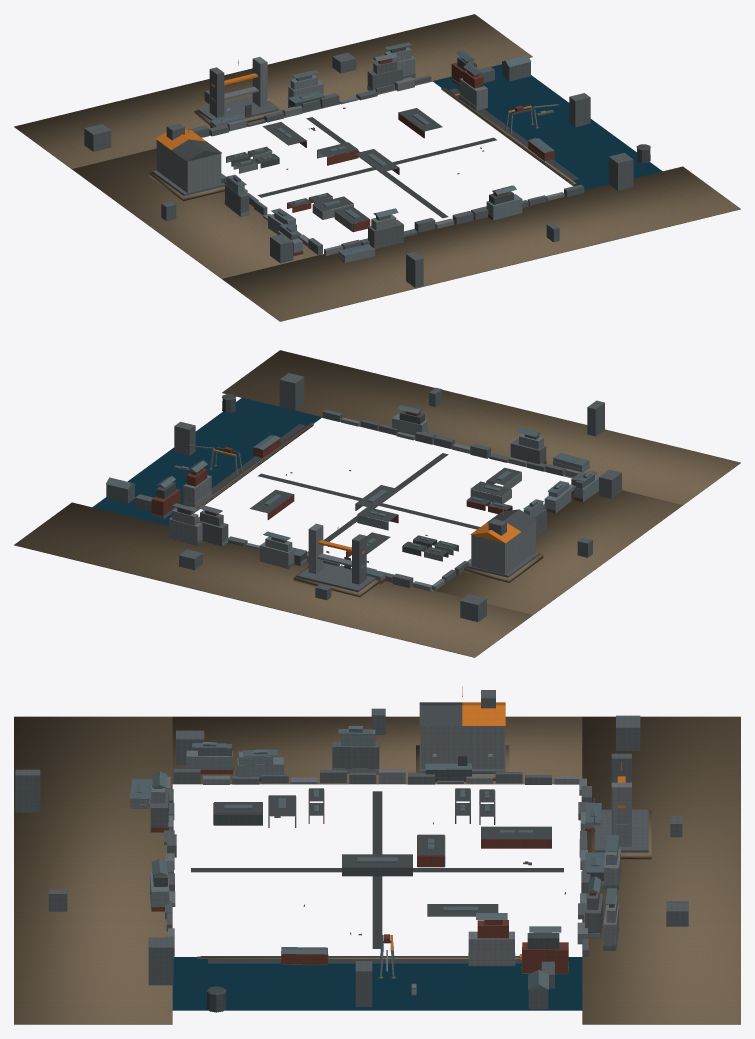
File: souko-lod2.glb
3 views of the same model, one above another, from view 1: azimuth 30°, elevation 25°; view 2: azimuth 150°, elevation 25°; view 3: azimuth 270°, elevation 25° (orthographic). The views are drawn at different scales.
Visible parts, largest first — view 1: HB_souko_LOD2_terrain, HB_souko_LOD2_wall_alt, HB_souko_LOD2_water, HB_souko_LOD2_wall, HB_souko_LOD2_trim, HB_souko_LOD2_roof, HB_souko_LOD2_road, HB_souko_LOD2_LANDMARK_1_wall, HB_souko_LOD2_wall_cool, HB_souko_LOD2_wall_warm, HB_souko_LOD2_LANDMARK_0_wall_alt, HB_souko_LOD2_wall_weathered (+3 smaller); view 2: HB_souko_LOD2_terrain, HB_souko_LOD2_wall_alt, HB_souko_LOD2_water, HB_souko_LOD2_wall, HB_souko_LOD2_trim, HB_souko_LOD2_roof, HB_souko_LOD2_wall_cool, HB_souko_LOD2_LANDMARK_1_wall, HB_souko_LOD2_road, HB_souko_LOD2_wall_warm, HB_souko_LOD2_LANDMARK_0_wall_alt, HB_souko_LOD2_wall_weathered (+4 smaller); view 3: HB_souko_LOD2_terrain, HB_souko_LOD2_water, HB_souko_LOD2_wall_alt, HB_souko_LOD2_wall, HB_souko_LOD2_trim, HB_souko_LOD2_roof, HB_souko_LOD2_road, HB_souko_LOD2_wall_warm, HB_souko_LOD2_wall_cool, HB_souko_LOD2_LANDMARK_1_wall, HB_souko_LOD2_wall_weathered, HB_souko_LOD2_LANDMARK_0_wall_alt (+4 smaller).
Boxes of the visible parts, bbox=[...] form: HB_souko_LOD2_terrain: bbox=[14, 14, 740, 321]; HB_souko_LOD2_wall_alt: bbox=[84, 52, 633, 287]; HB_souko_LOD2_water: bbox=[432, 64, 662, 190]; HB_souko_LOD2_wall: bbox=[210, 47, 564, 262]; HB_souko_LOD2_trim: bbox=[226, 88, 650, 223]; HB_souko_LOD2_roof: bbox=[210, 42, 554, 256]; HB_souko_LOD2_road: bbox=[257, 88, 579, 218]; HB_souko_LOD2_LANDMARK_1_wall: bbox=[156, 140, 221, 192]; HB_souko_LOD2_wall_cool: bbox=[226, 58, 558, 262]; HB_souko_LOD2_wall_warm: bbox=[210, 58, 554, 255]; HB_souko_LOD2_LANDMARK_0_wall_alt: bbox=[198, 67, 278, 120]; HB_souko_LOD2_wall_weathered: bbox=[221, 47, 650, 218]; HB_souko_LOD2_terrain: bbox=[14, 350, 740, 657]; HB_souko_LOD2_wall_alt: bbox=[106, 373, 621, 621]; HB_souko_LOD2_water: bbox=[92, 397, 322, 525]; HB_souko_LOD2_wall: bbox=[169, 417, 589, 591]; HB_souko_LOD2_trim: bbox=[180, 394, 521, 555]; HB_souko_LOD2_roof: bbox=[106, 405, 597, 577]; HB_souko_LOD2_wall_cool: bbox=[160, 413, 598, 565]; HB_souko_LOD2_LANDMARK_1_wall: bbox=[471, 521, 535, 574]; HB_souko_LOD2_road: bbox=[211, 424, 480, 552]; HB_souko_LOD2_wall_warm: bbox=[151, 411, 582, 583]; HB_souko_LOD2_LANDMARK_0_wall_alt: bbox=[297, 534, 375, 592]; HB_souko_LOD2_wall_weathered: bbox=[156, 398, 555, 565]; HB_souko_LOD2_terrain: bbox=[14, 716, 740, 1024]; HB_souko_LOD2_water: bbox=[172, 957, 582, 1010]; HB_souko_LOD2_wall_alt: bbox=[15, 708, 688, 1009]; HB_souko_LOD2_wall: bbox=[130, 763, 620, 989]; HB_souko_LOD2_trim: bbox=[200, 788, 565, 994]; HB_souko_LOD2_roof: bbox=[129, 726, 618, 989]; HB_souko_LOD2_road: bbox=[191, 791, 563, 963]; HB_souko_LOD2_wall_warm: bbox=[150, 764, 596, 973]; HB_souko_LOD2_wall_cool: bbox=[130, 729, 618, 977]; HB_souko_LOD2_LANDMARK_1_wall: bbox=[420, 726, 504, 768]; HB_souko_LOD2_wall_weathered: bbox=[153, 769, 614, 1012]; HB_souko_LOD2_LANDMARK_0_wall_alt: bbox=[594, 753, 648, 852].
Size of the model in its own units: 596 by 73.85 by 596.
13 materials, 11 textured.
